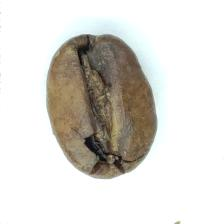NG: (61, 37, 132, 160)
